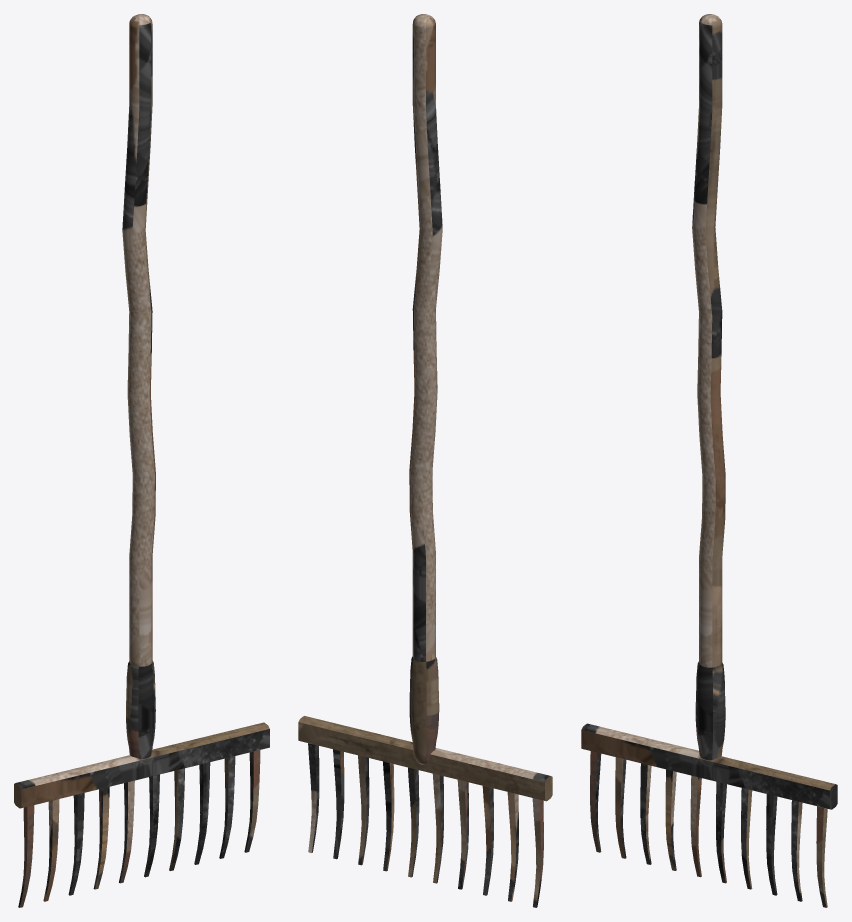
File: Rastrillo.fbx
3 views of the same model, side by side, from view 1: azimuth 30°, elevation 25°; view 2: azimuth 150°, elevation 25°; view 3: azimuth 330°, elevation 25° (orthographic).
Parts seen in each view (by area): view 1: Rake_LOD0; view 2: Rake_LOD0; view 3: Rake_LOD0.
Boxes of the visible parts, x1,y1,x2,y2 form: Rake_LOD0: (14,14,269,907); Rake_LOD0: (298,14,552,907); Rake_LOD0: (581,14,837,907).
Size of what is drawn, in the model's own units: 30.97 by 103 by 2.95.
